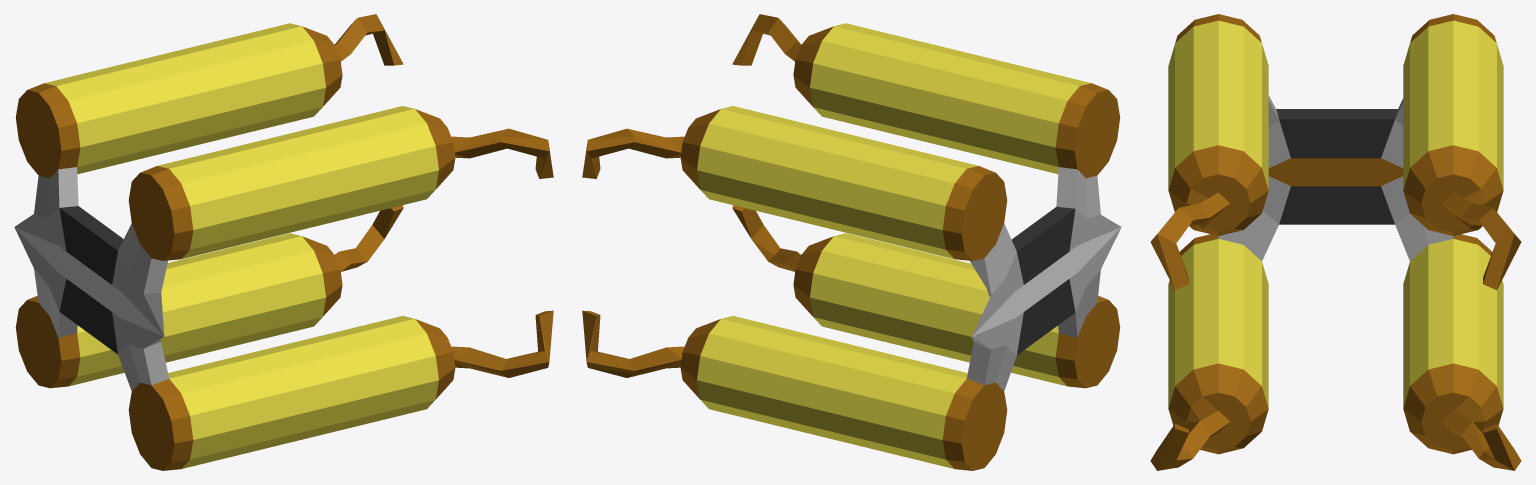
File: BoostUpg.fbx
The picture shows the model from 3 angles, left to right: view 1: azimuth 30°, elevation 25°; view 2: azimuth 150°, elevation 25°; view 3: azimuth 270°, elevation 25°; orthographic projection. The views are drawn at different scales.
Visible parts, largest first — view 1: BoostUPGSP; view 2: BoostUPGSP; view 3: BoostUPGSP.
Boxes of the visible parts, x1,y1,x2,y2 form: BoostUPGSP: (14,14,553,470); BoostUPGSP: (582,14,1121,470); BoostUPGSP: (1150,14,1521,470).
Size of the model in its own units: 78.18 by 57.4 by 62.45.
